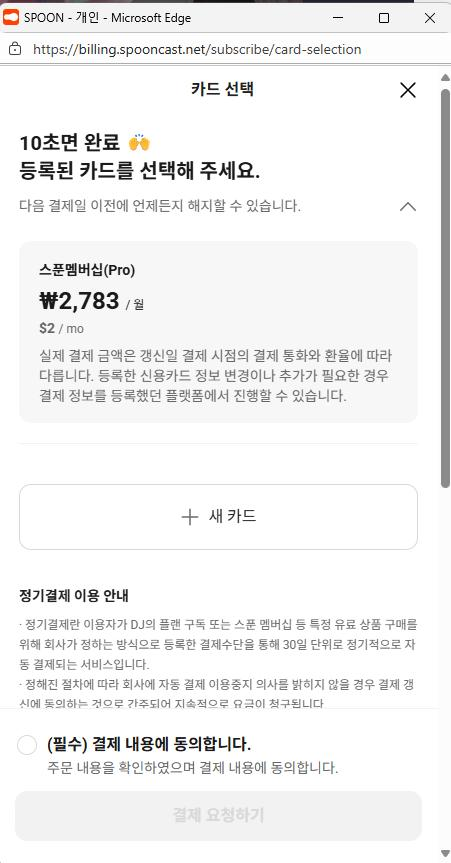button: (16, 481, 421, 549), (14, 788, 425, 846), (395, 76, 419, 101), (323, 8, 353, 27), (369, 8, 398, 27), (395, 198, 418, 219), (416, 9, 442, 27)
checkbox: (18, 725, 342, 778)
input_field: (0, 34, 451, 62)
